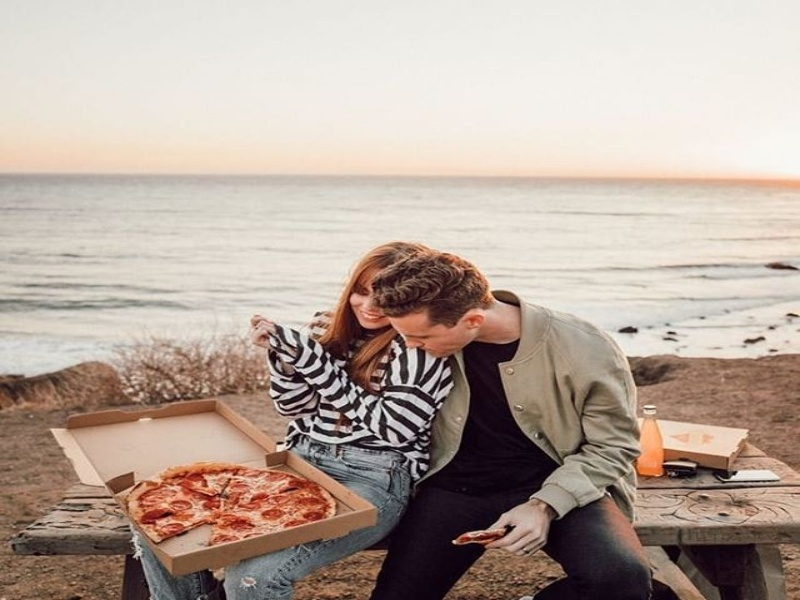pepperonis: (140, 507, 169, 522), (157, 522, 184, 535), (169, 499, 192, 511), (261, 508, 284, 519), (296, 497, 320, 507)
